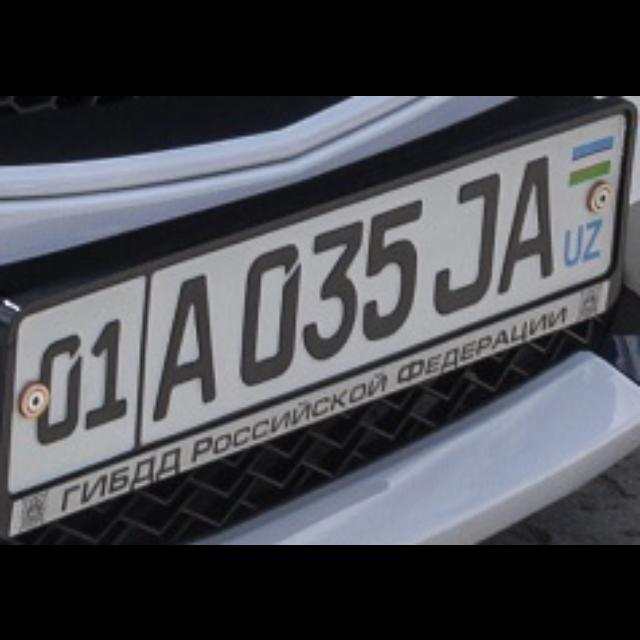0: (234, 240, 296, 382), (34, 332, 78, 442)
1: (84, 316, 124, 426)
3: (302, 218, 361, 356)
5: (363, 197, 419, 337)
A: (151, 270, 213, 418), (495, 154, 551, 294)
J: (433, 170, 495, 314)
